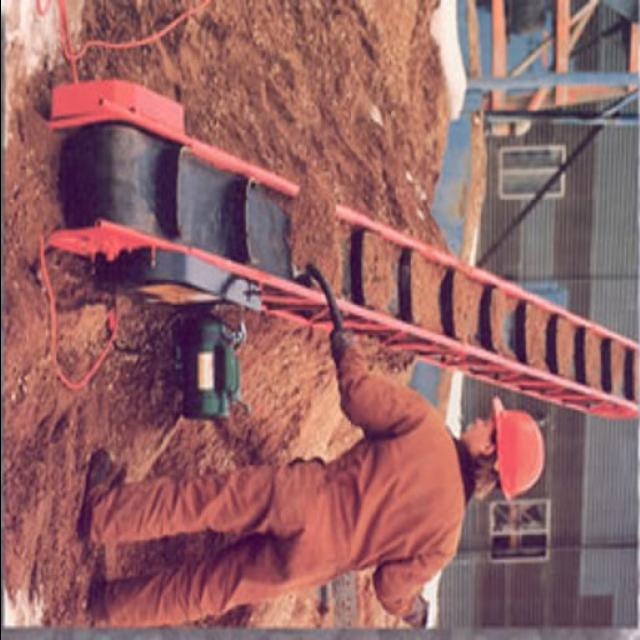conveyor: (60, 117, 639, 412)
